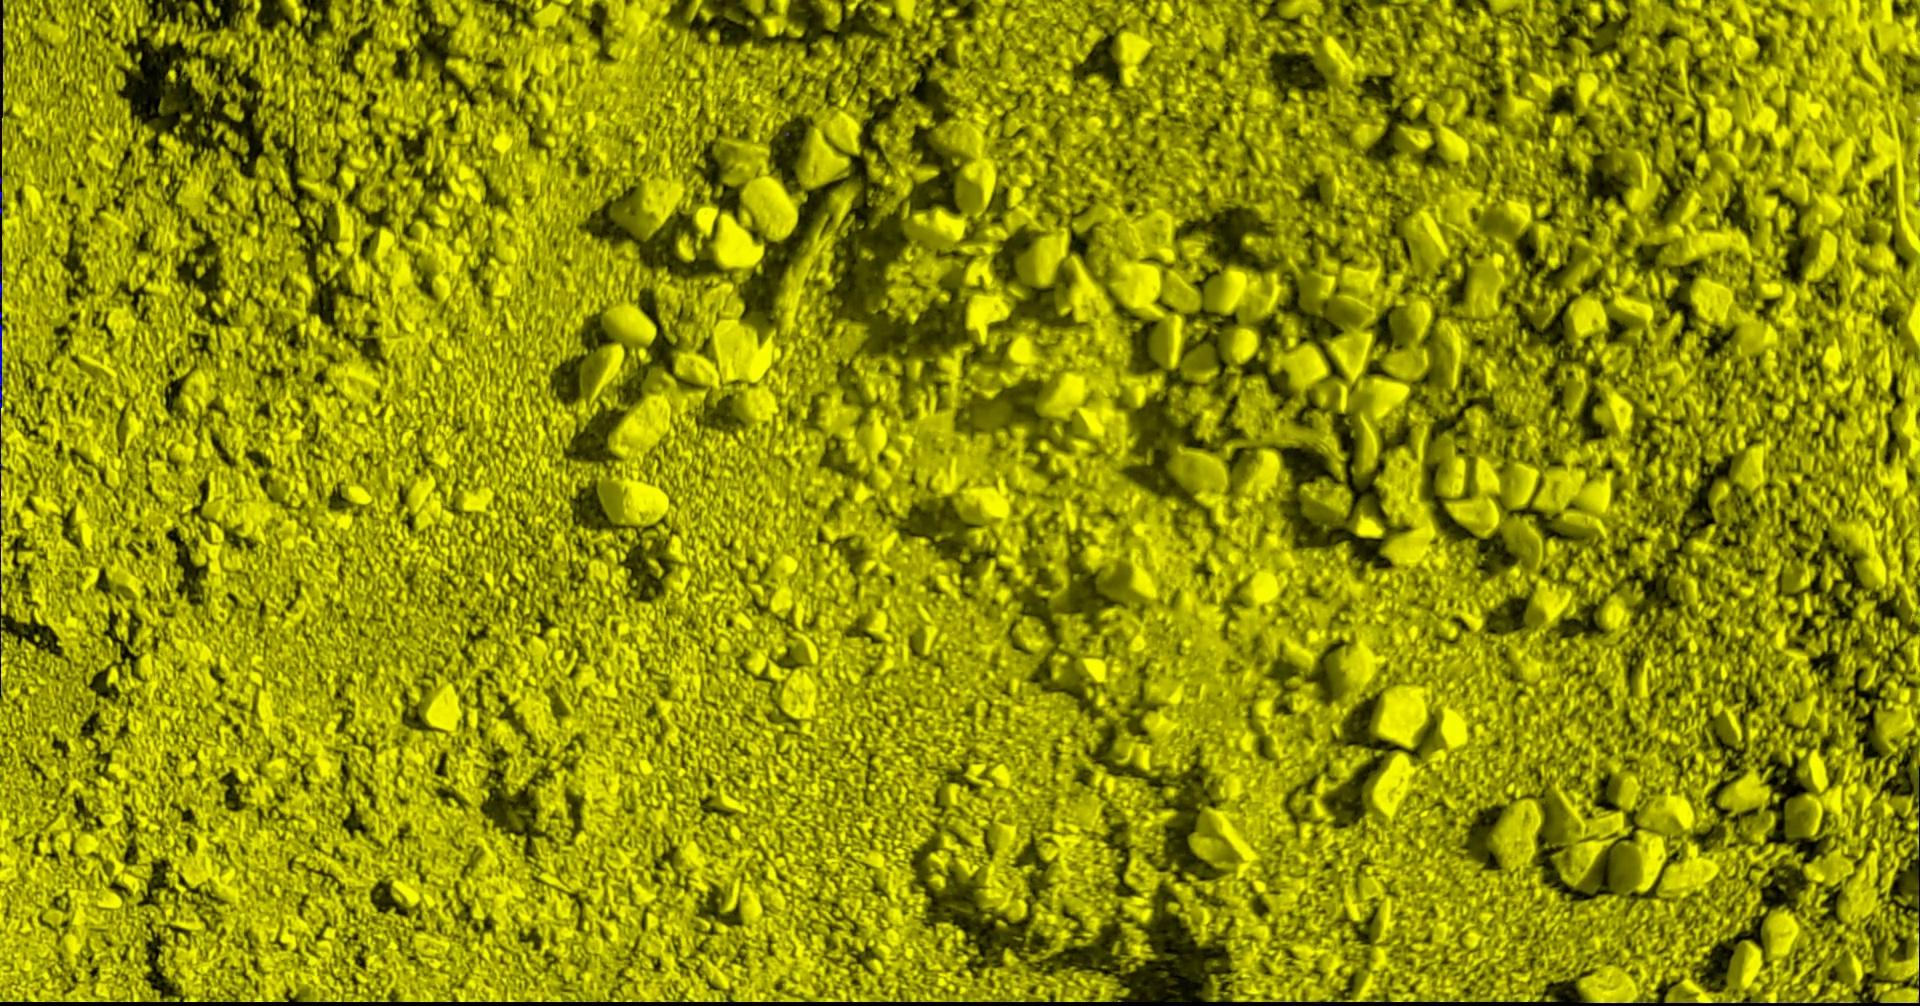ant: (1, 311, 4, 406)
